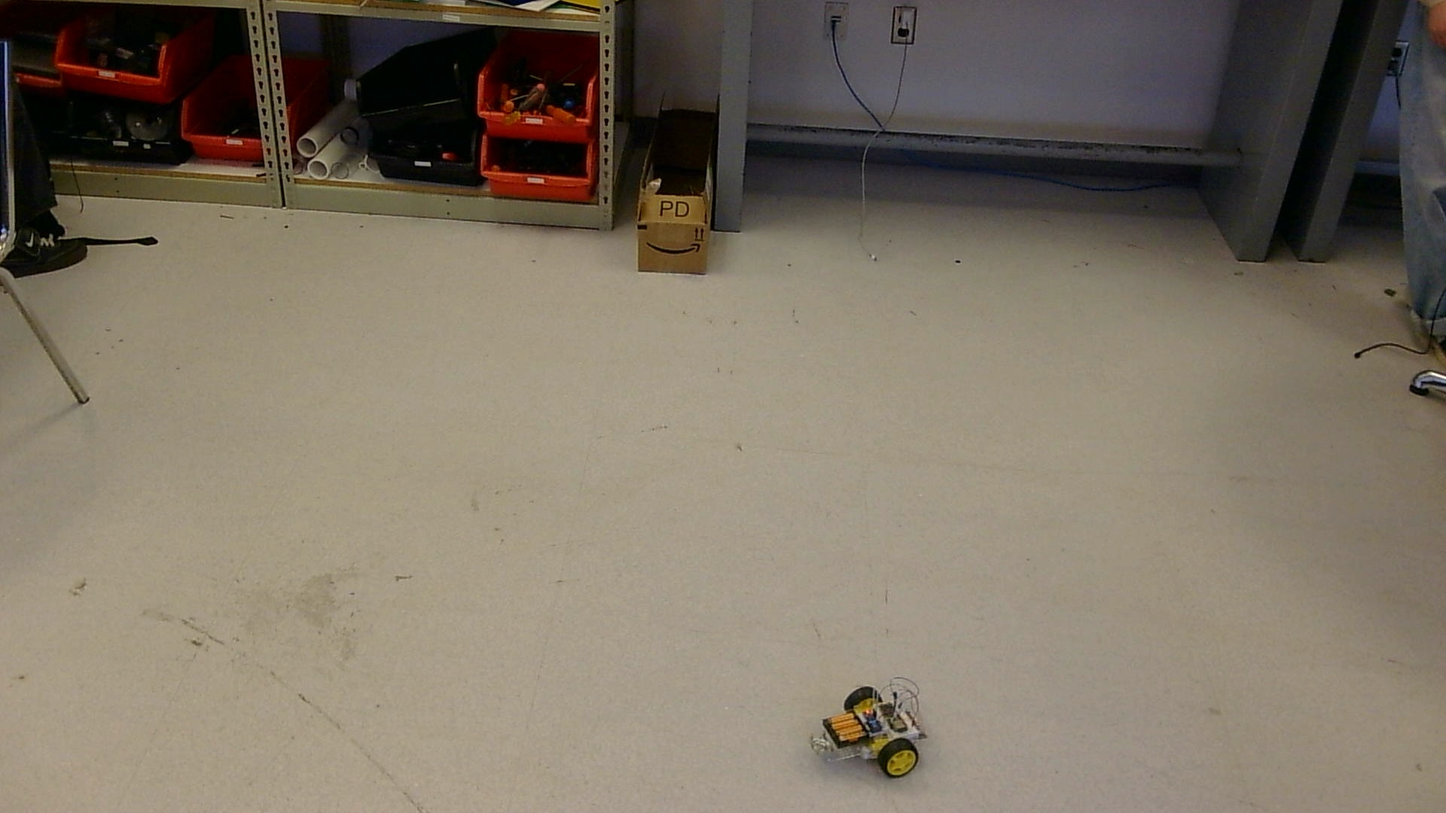robot: (810, 677, 927, 778)
